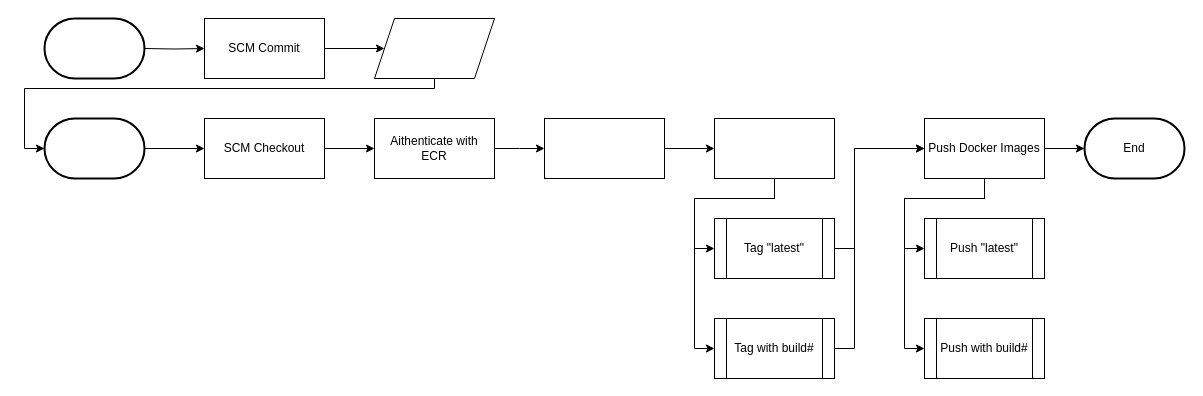
The diagram is 1203 pixels wide and 396 high, and some of its shapes have lost their labels. The box of each missing label's shape, as (x1, y1, x2, y2) in pixels:
Build Docker Images: (544, 118, 664, 178)
Repo & Branch Name: (374, 18, 494, 78)
Start: (43, 17, 145, 79)
Tag Docker Images: (714, 118, 834, 178)
Workflow Start: (43, 117, 145, 179)
